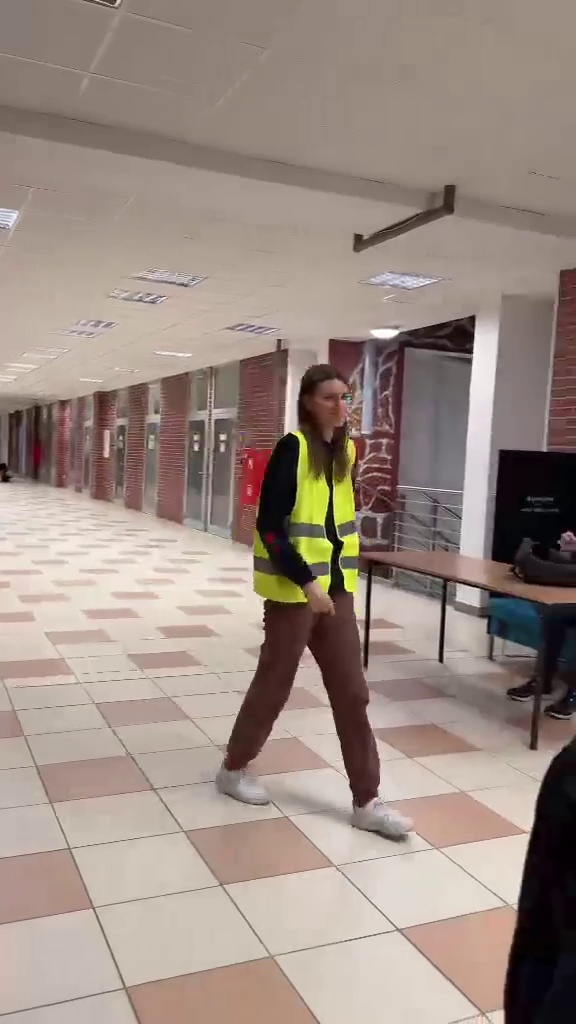vest: (229, 362, 419, 835)
